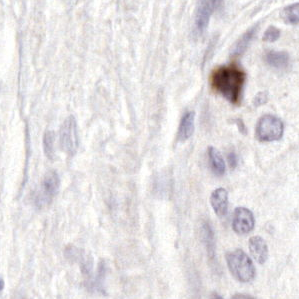Lymphocyte: (207, 61, 248, 101)
